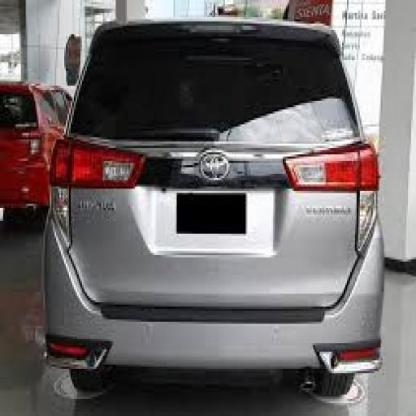car: (41, 9, 385, 411)
